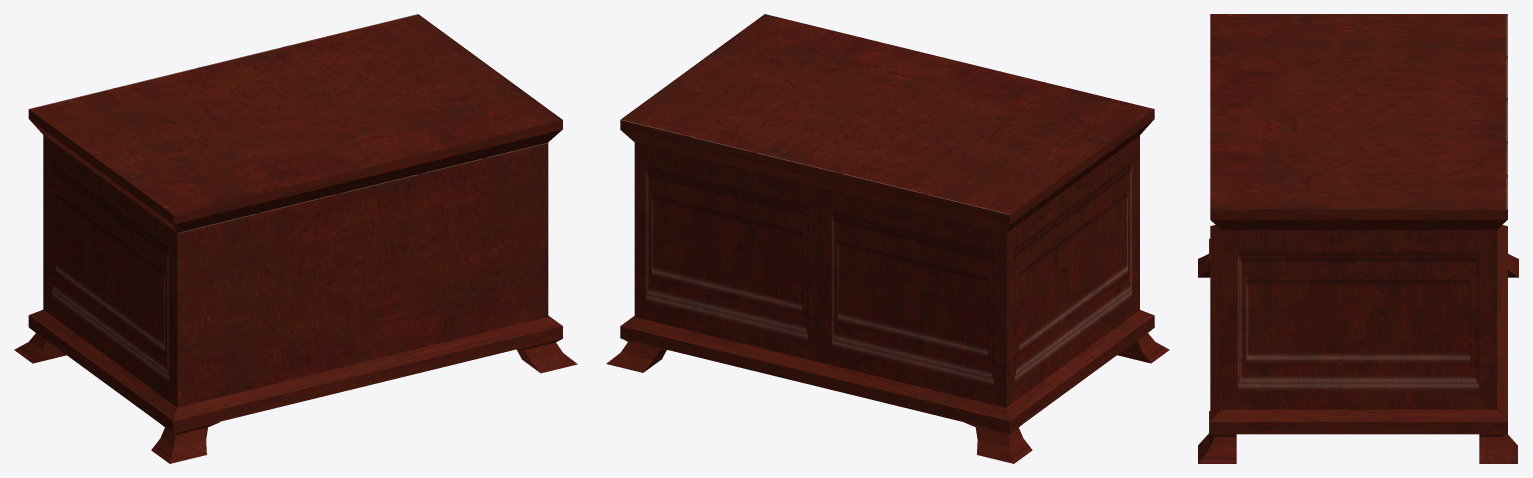
The model's file is chest01.fbx.
3 views of the same model, side by side, from view 1: azimuth 30°, elevation 25°; view 2: azimuth 150°, elevation 25°; view 3: azimuth 270°, elevation 25° (orthographic). The views are drawn at different scales.
Visible parts, largest first — view 1: mesh_0; view 2: mesh_0; view 3: mesh_0.
Part boxes in pixels (x1,y1,x2,y2): mesh_0: (14,14,577,463); mesh_0: (606,14,1169,463); mesh_0: (1198,14,1518,463).
Size of the model in its own units: 88 by 49.97 by 58.19.
1 material, 1 textured.
